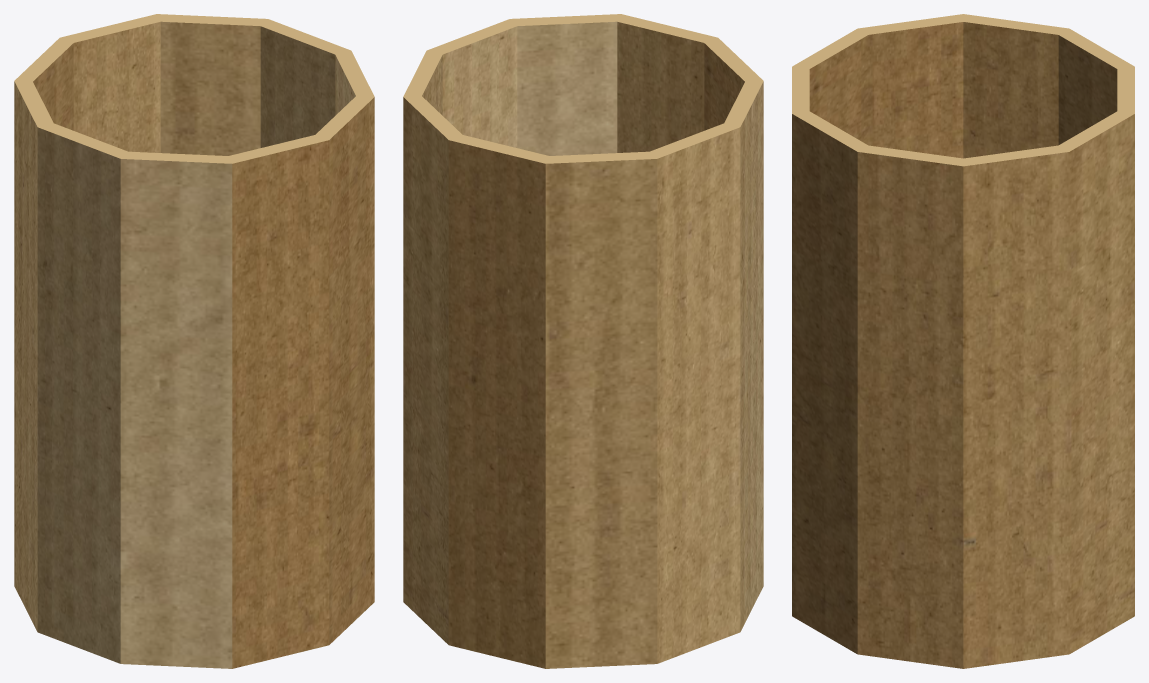
File: Toilet Paper Roll Model.fbx
The picture shows the model from 3 angles, left to right: view 1: azimuth 30°, elevation 25°; view 2: azimuth 150°, elevation 25°; view 3: azimuth 270°, elevation 25°; orthographic projection.
Parts seen in each view (by area): view 1: pCylinder9; view 2: pCylinder9; view 3: pCylinder9.
Part boxes in pixels (x1,y1,x2,y2): pCylinder9: (14, 14, 374, 668); pCylinder9: (403, 14, 763, 668); pCylinder9: (792, 14, 1134, 668).
Bounding box in the file's own units: 5.85 × 8.99 × 5.56.
1 material, 1 textured.
